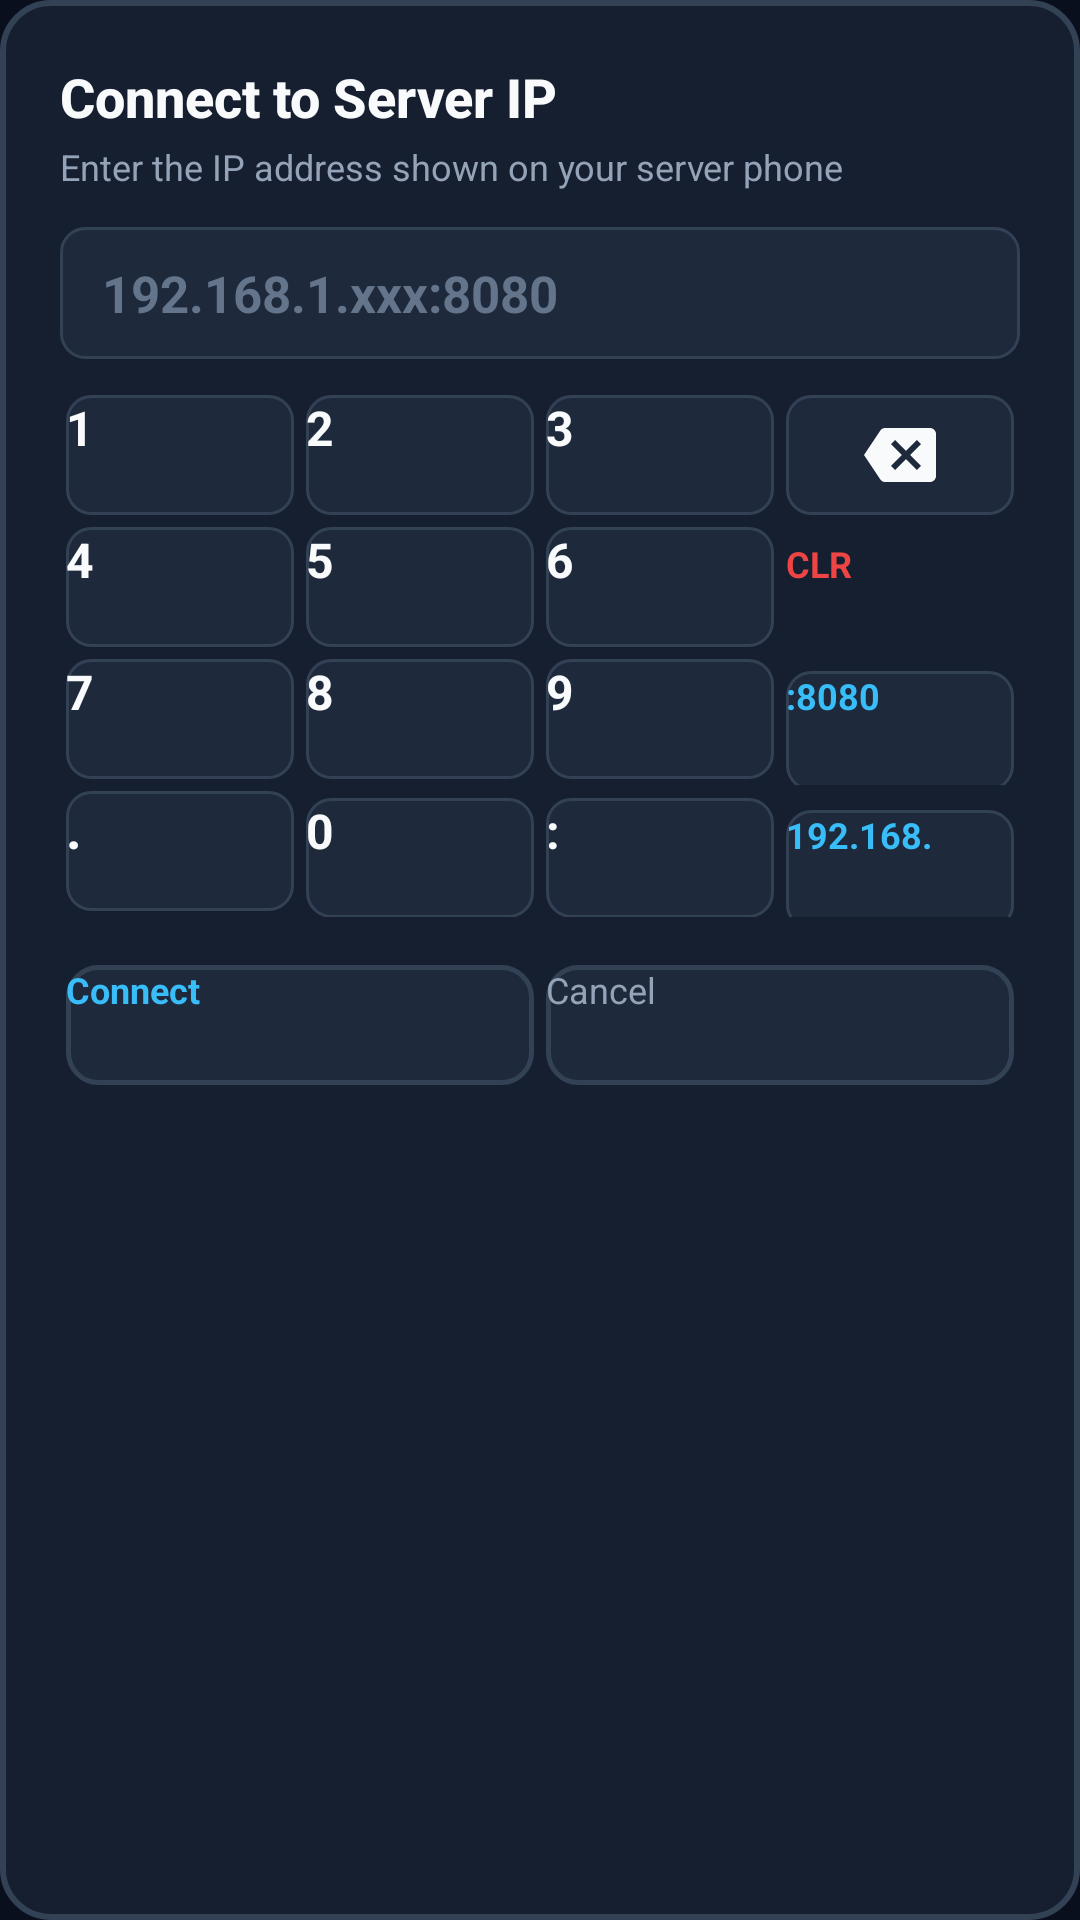

Where to tap for icons on this 1080px x 1920px app screen, as (x=x, y=y):
Backspace: (x=900, y=455)
